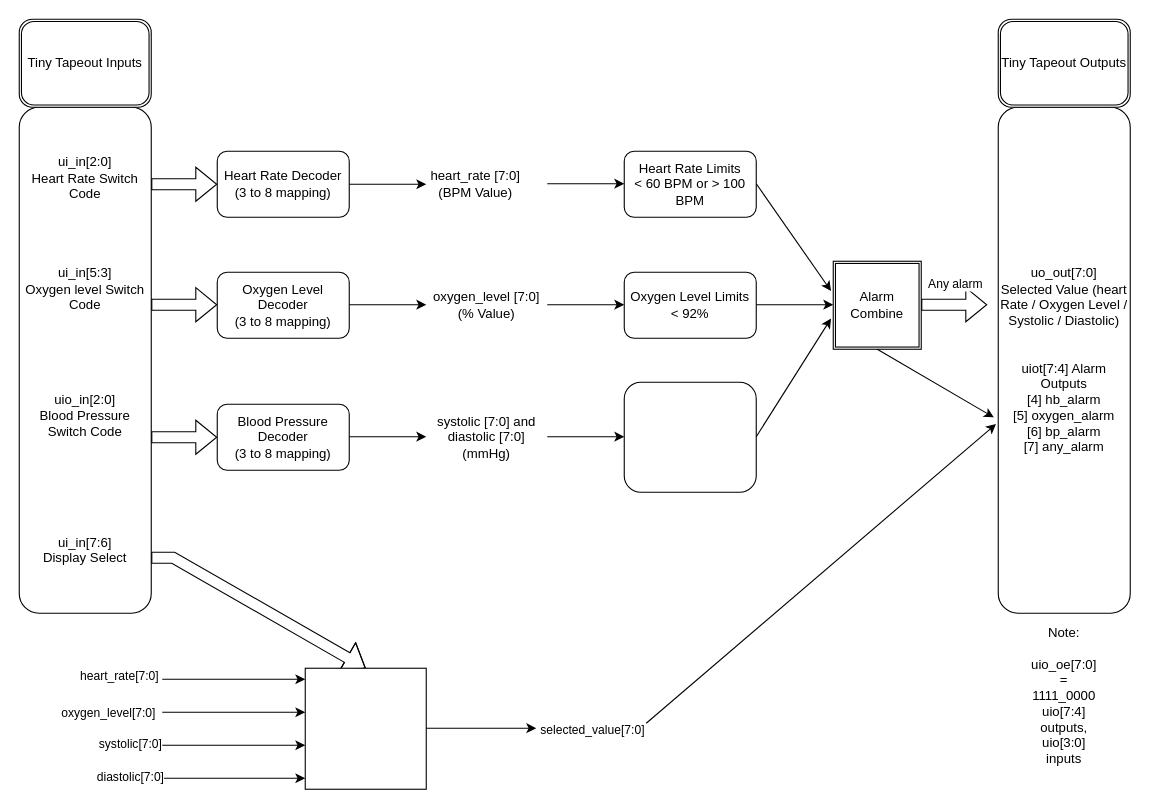
The diagram is 1150 pixels wide and 809 high, and some of its shapes have lost their labels. The shapes that lost their labels are listed below. From the top down, each one's centre as x and y in pixels, then its label:
At point 689,436: "Blood Pressure Limits stysolic < 90 OR > 140 diastolic < 60 OR > 90".
At point 365,728: "Display Multiplexer (4 to 1)".
